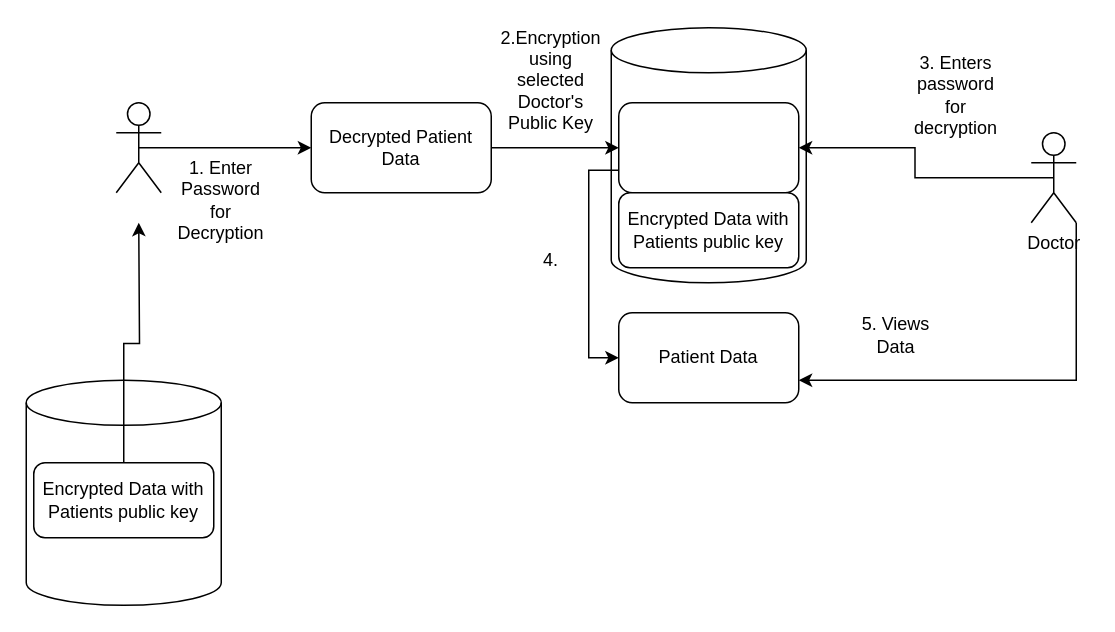
Some shapes in this 1115 by 632 pixel diagram are drawn without their labels. The box of each missing label's shape, as (x1, y1, x2, y2) in pixels:
Encrypted Data with Doctor public Key: (617, 101, 799, 193)
Patient: (115, 101, 161, 193)
